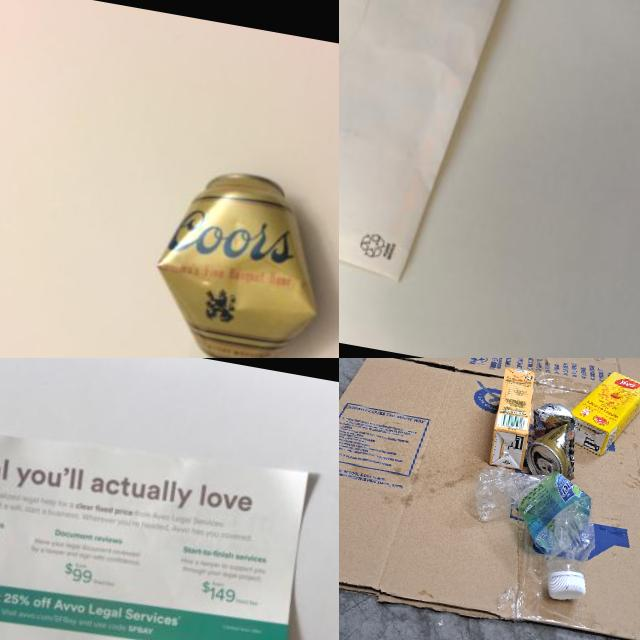aba de lata: (536, 457, 555, 475)
caixinha: (562, 365, 640, 462), (488, 367, 539, 470)
garrafa plástica: (463, 458, 606, 576)
lata: (144, 158, 339, 358), (522, 400, 586, 482)
papel: (0, 396, 328, 640), (339, 0, 539, 295)
papelão: (339, 358, 640, 640)
tampa plástica: (544, 571, 588, 604)
